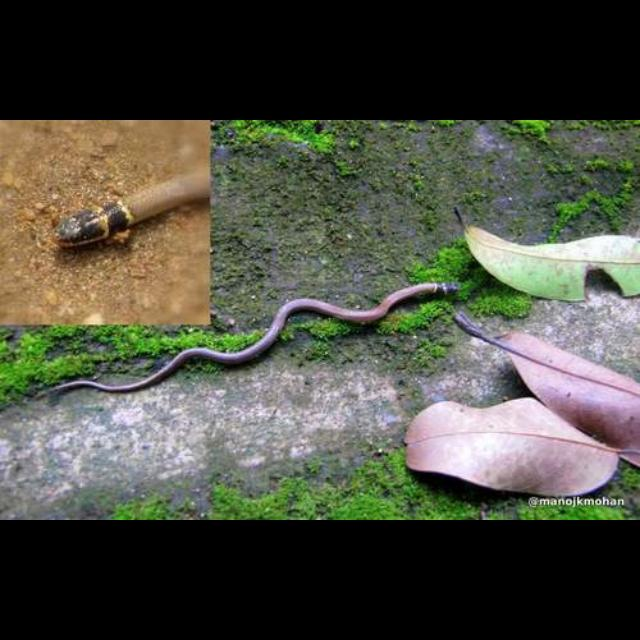snake: (34, 274, 468, 401), (45, 189, 207, 253)
